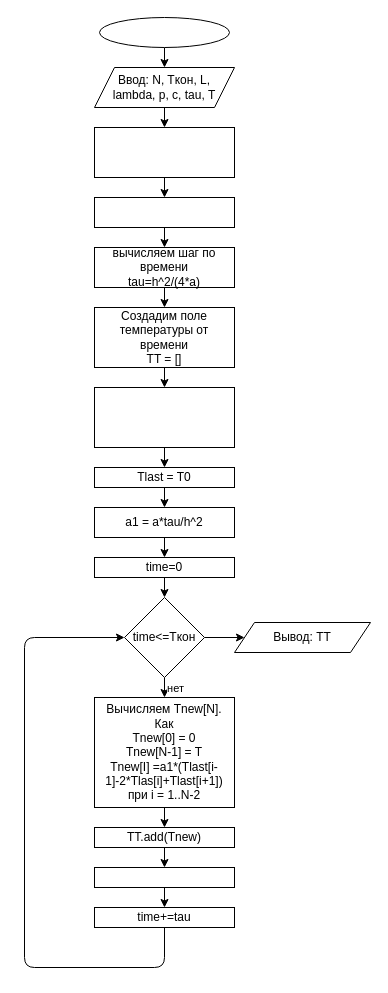
This 388x993 diagram has some shape labels left out. Here are the shapes that lost their labels. From the top down, the centre of each, then its label:
At point (164, 32): "Начало".
At point (164, 152): "вычисляем шаг по пространству h=L/(N-1)".
At point (164, 212): "a=lambda/(p*c)".
At point (164, 417): "Создаем начальное поле температуры T0[N]= [0,0...,0,T]".
At point (164, 877): "Tlast = Tnew".
